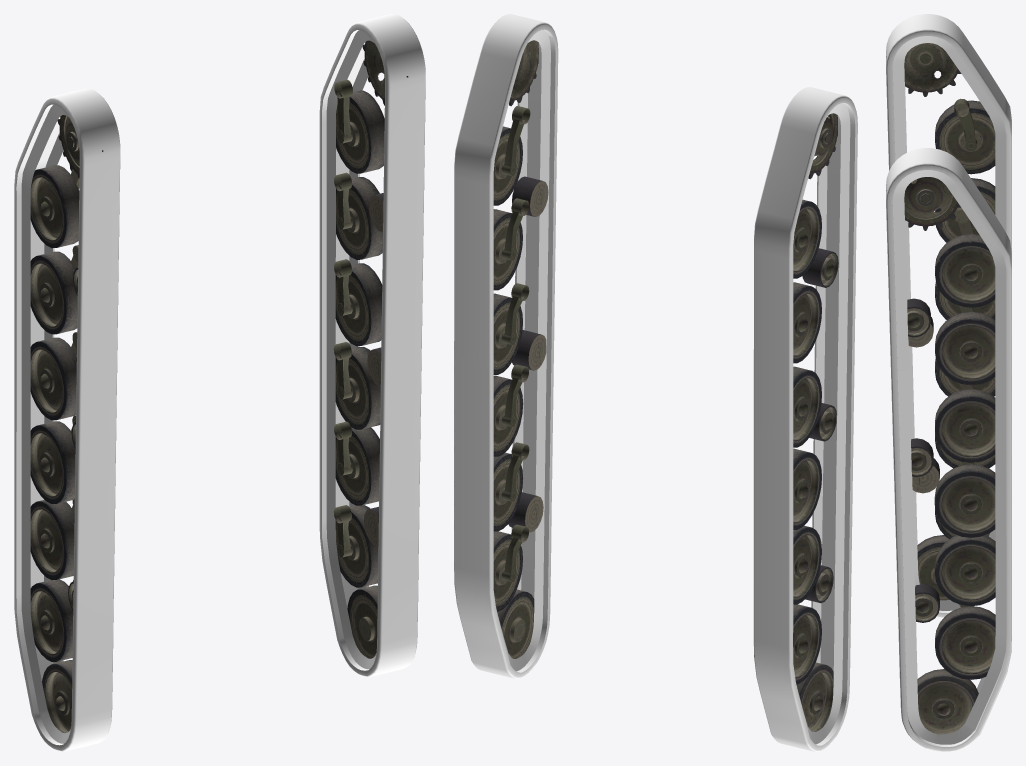
Rendered from Chassis.glb.
3 views of the same model, side by side, from view 1: azimuth 30°, elevation 25°; view 2: azimuth 150°, elevation 25°; view 3: azimuth 270°, elevation 25° (orthographic). The views are drawn at different scales.
Visible parts, largest first — view 1: set_3_group_0, set_2_group_0, set_0_group_0, set_1_group_0; view 2: set_3_group_0, set_2_group_0, set_0_group_0, set_1_group_0; view 3: set_0_group_0, set_2_group_0, set_1_group_0, set_3_group_0.
Boxes of the visible parts, box(x1,y1,x2,y2) form: set_3_group_0: box(14, 88, 120, 751); set_2_group_0: box(319, 14, 425, 677); set_0_group_0: box(333, 40, 408, 658); set_1_group_0: box(30, 115, 103, 733); set_3_group_0: box(753, 87, 857, 751); set_2_group_0: box(454, 14, 558, 678); set_0_group_0: box(493, 40, 548, 658); set_1_group_0: box(793, 113, 838, 731); set_0_group_0: box(886, 177, 995, 734); set_2_group_0: box(886, 148, 1011, 751); set_1_group_0: box(886, 43, 995, 600); set_3_group_0: box(886, 14, 1011, 617).
Size of the model in its own units: 2.72 by 4.95 by 0.959.
Materials: 4 (2 with a texture image).
